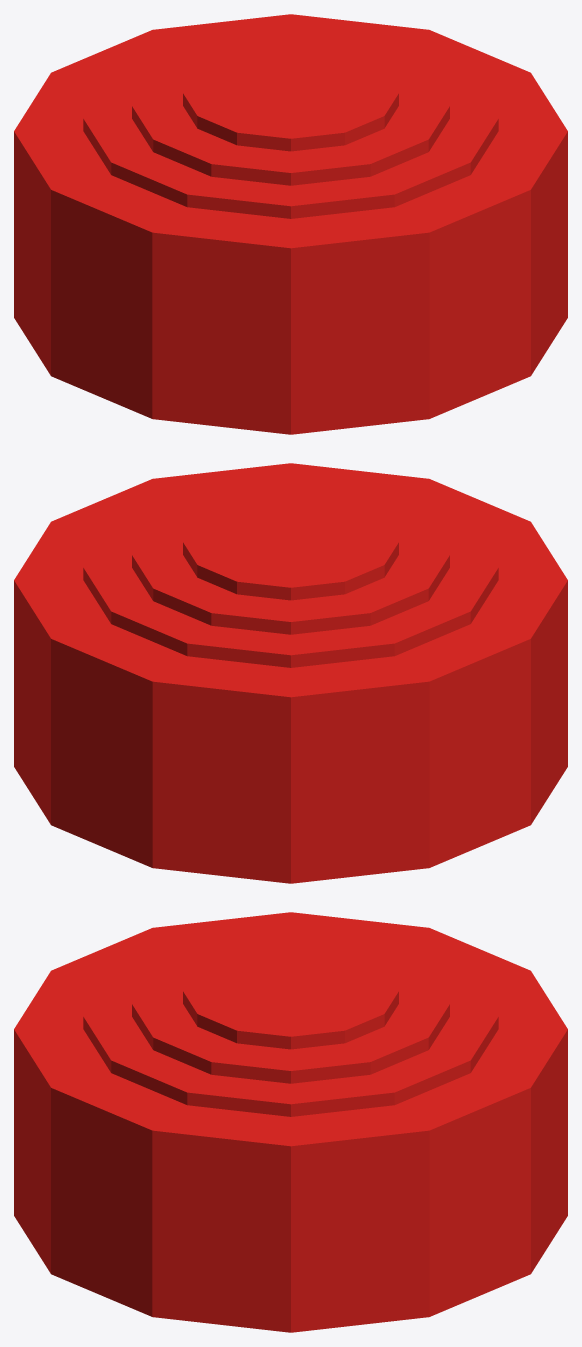
Rendered from red_chib.gltf.
3 views of the same model, one above another, from view 1: azimuth 30°, elevation 25°; view 2: azimuth 150°, elevation 25°; view 3: azimuth 270°, elevation 25° (orthographic).
Parts seen in each view (by area): view 1: Chip.r; view 2: Chip.r; view 3: Chip.r.
Part boxes in pixels (x1,y1,x2,y2): Chip.r: (14, 14, 567, 434); Chip.r: (14, 463, 567, 883); Chip.r: (14, 912, 567, 1332).
Size of the model in its own units: 0.7916 by 0.354 by 0.7916.
1 material, 1 textured.
